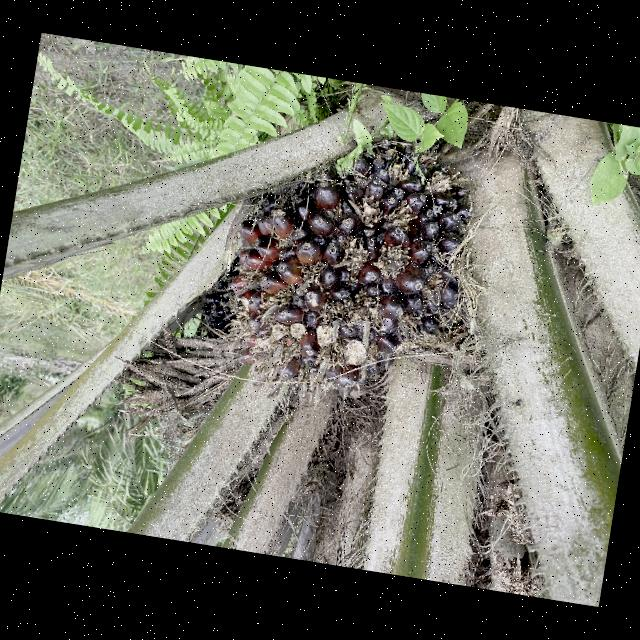Unripe: (230, 143, 473, 390)
